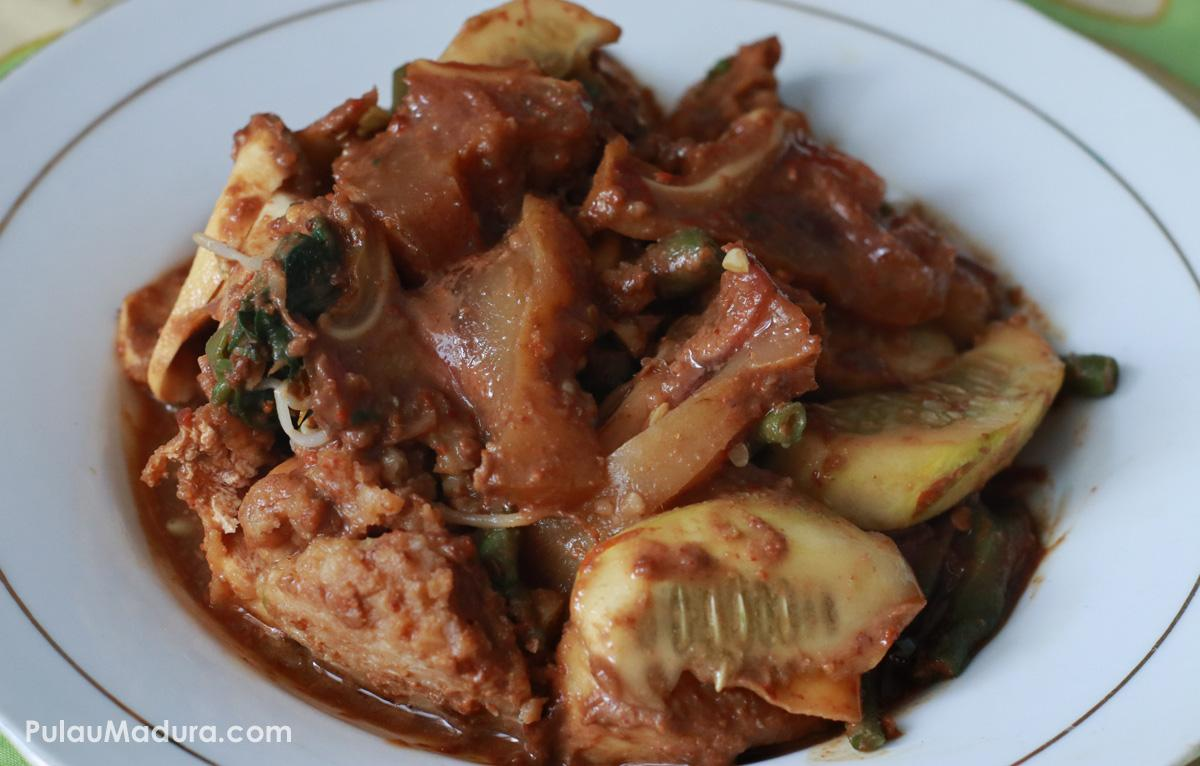rujak_cingur: (114, 2, 1118, 761)
